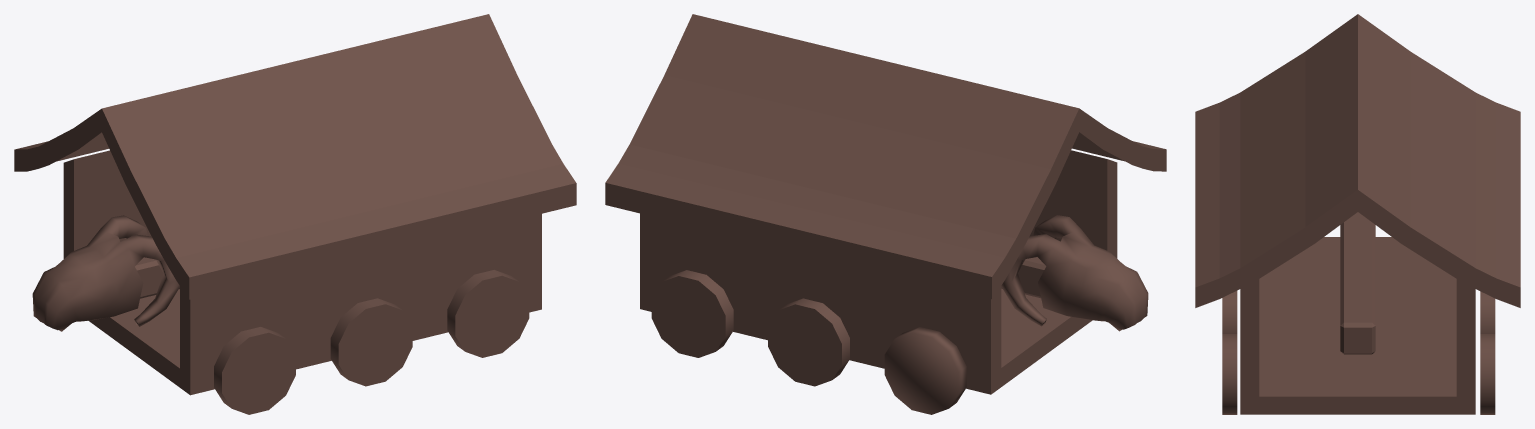
The model's file is BatteringRam_Greybox.fbx.
3 renders of one model, left to right at view 1: azimuth 30°, elevation 25°; view 2: azimuth 150°, elevation 25°; view 3: azimuth 270°, elevation 25°, orthographic. The views are drawn at different scales.
Visible parts, largest first — view 1: BatteringRam_Greybox1; view 2: BatteringRam_Greybox1; view 3: BatteringRam_Greybox1.
Part boxes in pixels (x1,y1,x2,y2): BatteringRam_Greybox1: (14, 14, 576, 414); BatteringRam_Greybox1: (605, 14, 1166, 414); BatteringRam_Greybox1: (1195, 14, 1520, 414).
Size of the model in its own units: 35.26 by 20.35 by 23.77.
